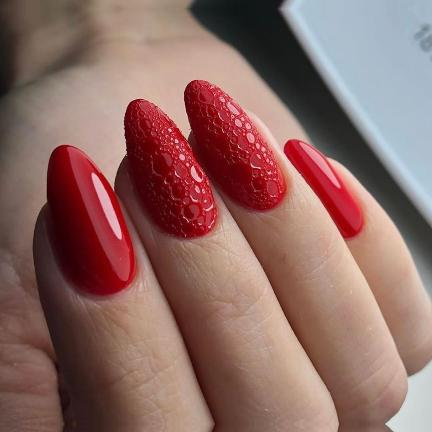Nail: (47, 144, 136, 294), (184, 80, 285, 210), (125, 98, 218, 237), (284, 139, 364, 238)
